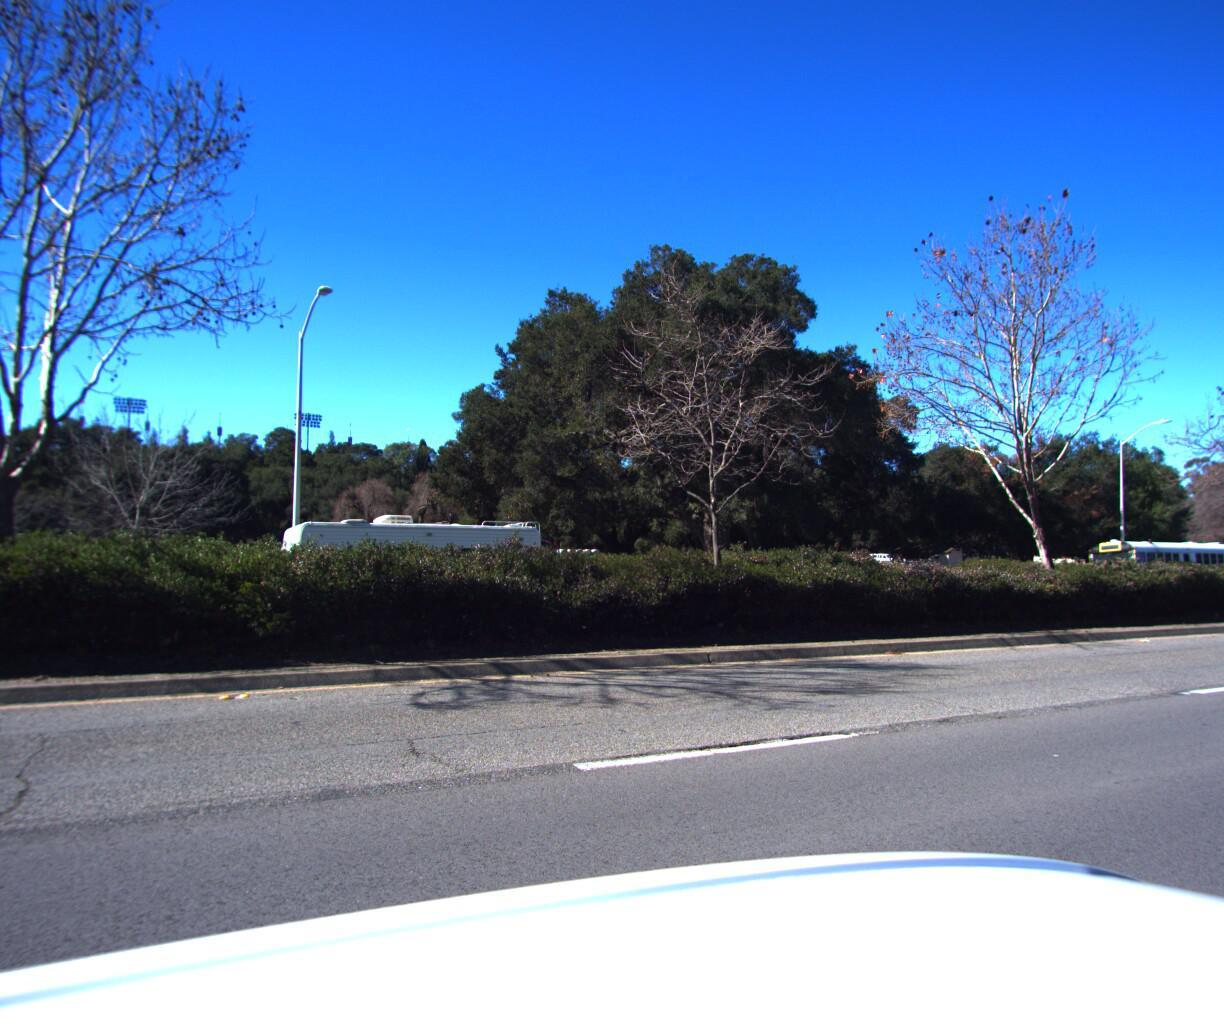bus: (1066, 532, 1224, 587)
other_vehicle: (272, 501, 560, 594), (1221, 541, 1224, 580)
